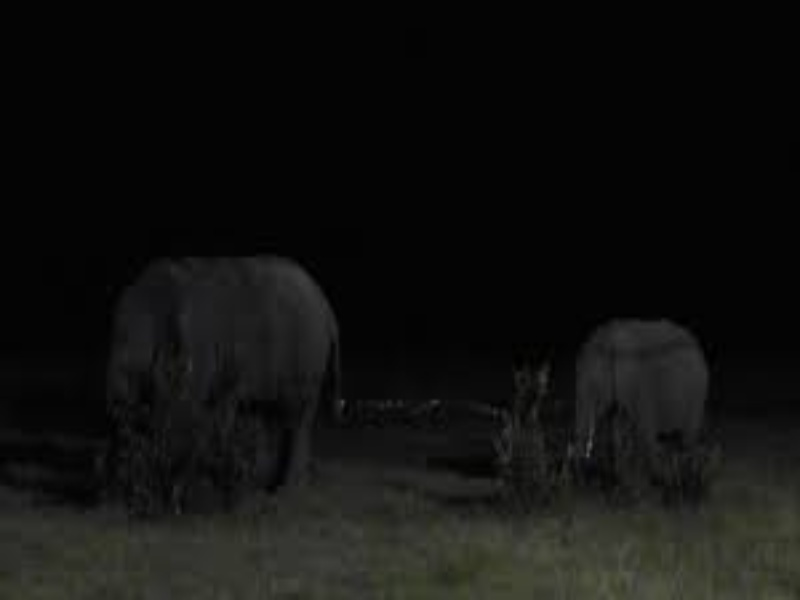elephant: (116, 218, 370, 520), (562, 301, 719, 491)
